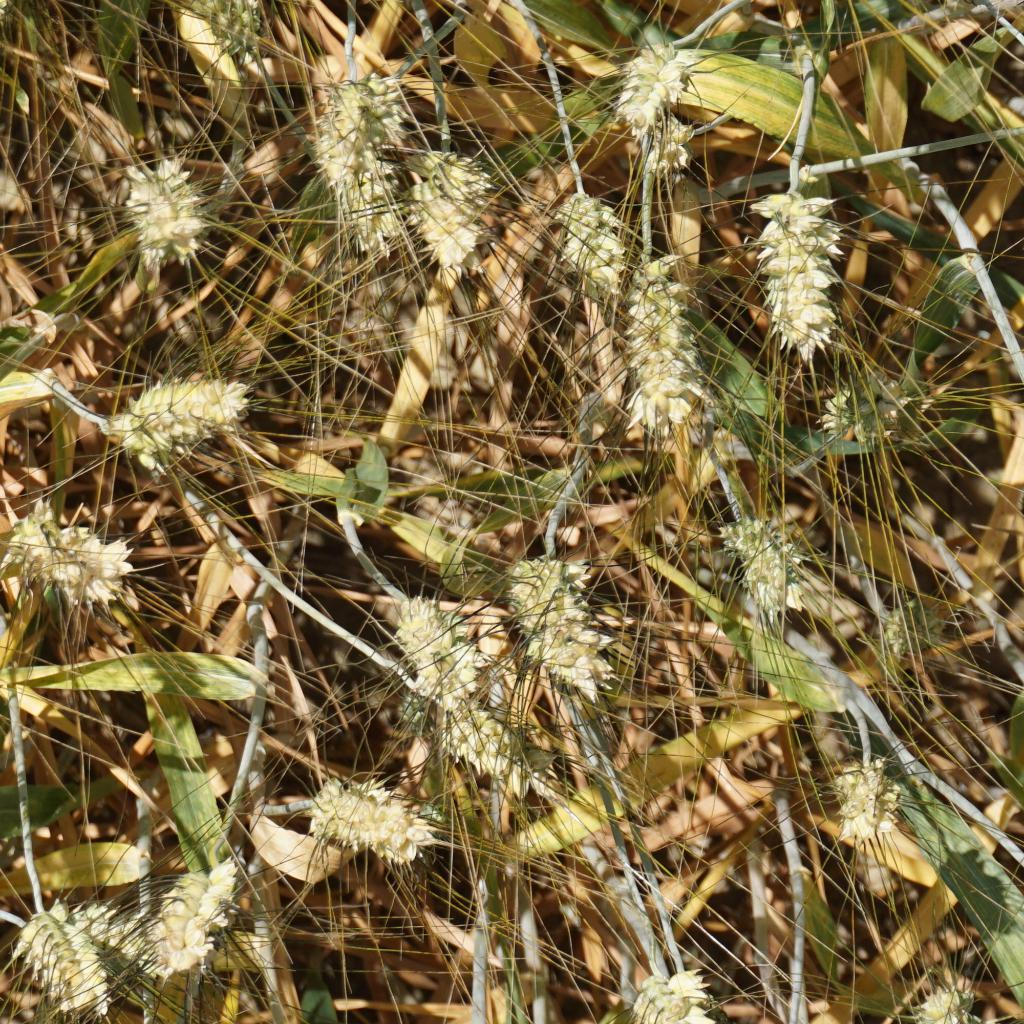0-0: (752, 179, 857, 368), (499, 542, 619, 702), (0, 492, 142, 623), (106, 362, 260, 477), (621, 251, 715, 430), (418, 691, 557, 802), (293, 766, 440, 868), (136, 849, 247, 980), (387, 585, 496, 718), (120, 147, 220, 275), (726, 508, 819, 638), (15, 913, 113, 1015), (820, 359, 915, 458), (818, 754, 922, 842), (551, 190, 632, 295), (401, 175, 487, 268), (609, 43, 693, 136), (311, 76, 382, 184), (330, 152, 397, 248), (624, 968, 737, 1024), (65, 885, 148, 954), (866, 581, 934, 664), (901, 971, 995, 1024), (201, 0, 272, 66), (419, 146, 494, 202), (365, 67, 413, 152), (643, 109, 694, 178)
